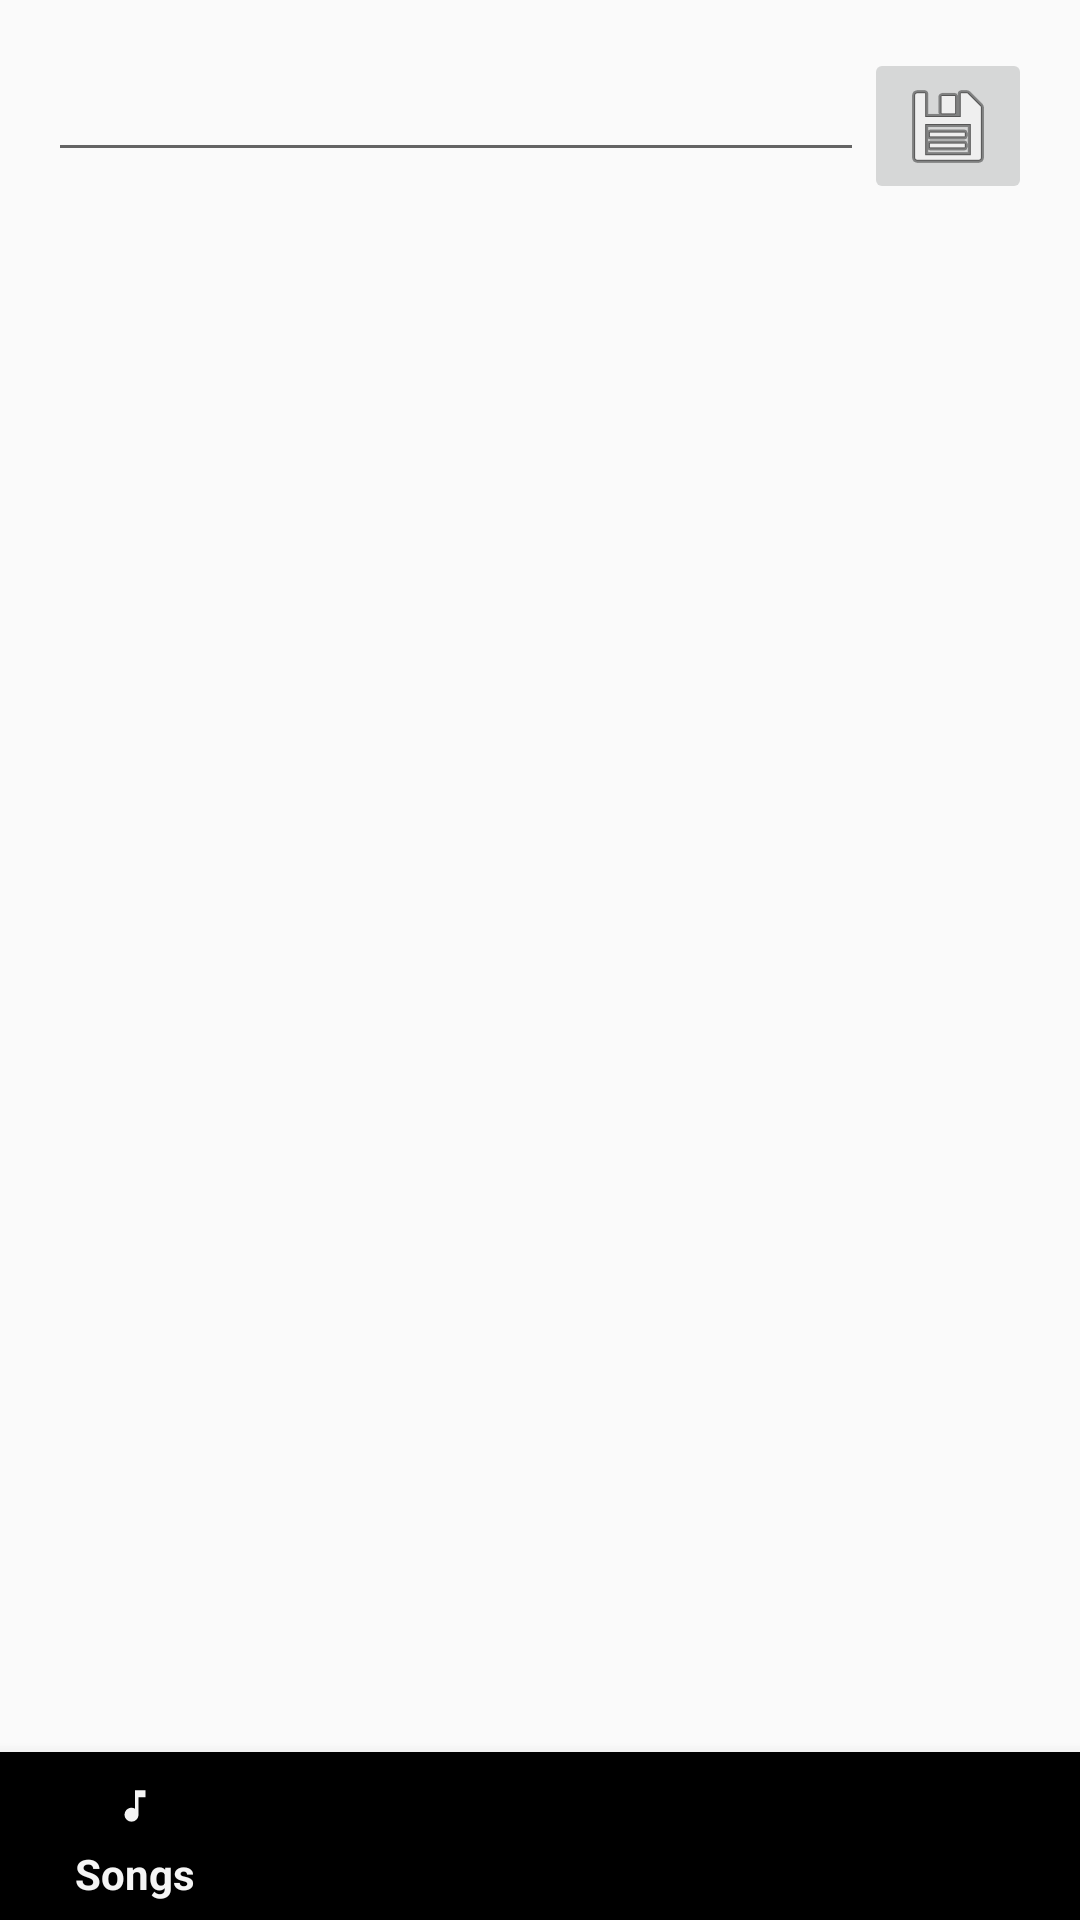

Icon bounding boxes for this 1080px×1920px phone screenshot, format (x1=x1, y1=y1, x2=x2, y2=y2):
save: (x1=876, y1=66, x2=1020, y2=186)
